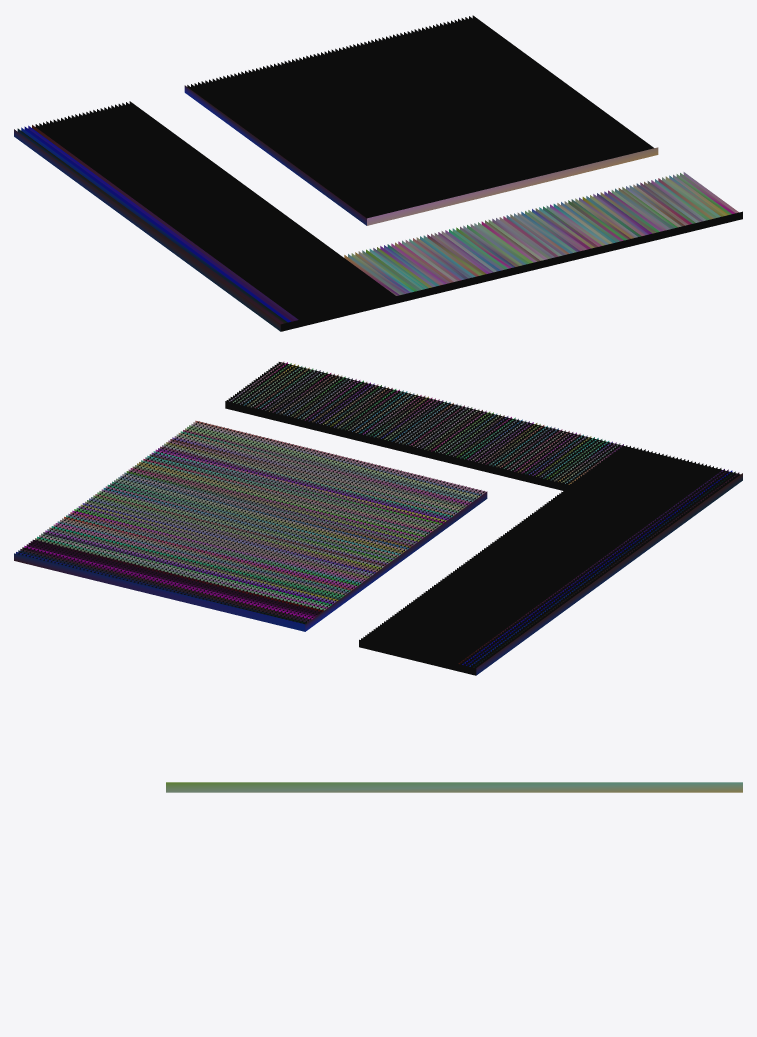
Rendered from Grass_04.gltf.
3 views of the same model, one above another, from view 1: azimuth 30°, elevation 25°; view 2: azimuth 150°, elevation 25°; view 3: azimuth 270°, elevation 25° (orthographic). The views are drawn at different scales.
Parts seen in each view (by area): view 1: Grass_04; view 2: Grass_04; view 3: Grass_04.
Boxes of the visible parts, box(x1,y1,x2,y2) form: Grass_04: box(14, 15, 742, 331); Grass_04: box(14, 361, 742, 675); Grass_04: box(166, 782, 742, 792).
Bounding box in the file's own units: 5.12 × 0.1031 × 5.12.
